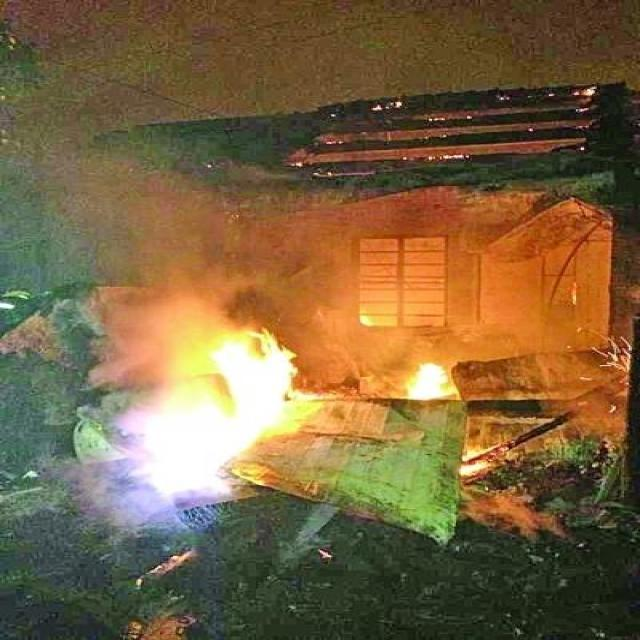Fire: (138, 326, 305, 496), (404, 358, 455, 398)
